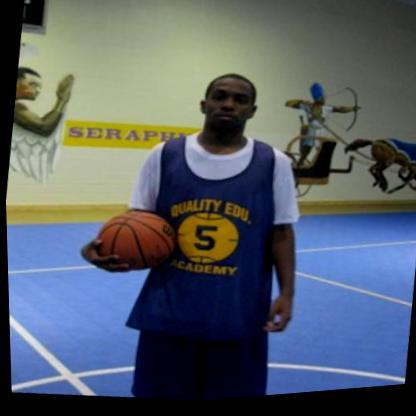basketball: (86, 203, 177, 279)
